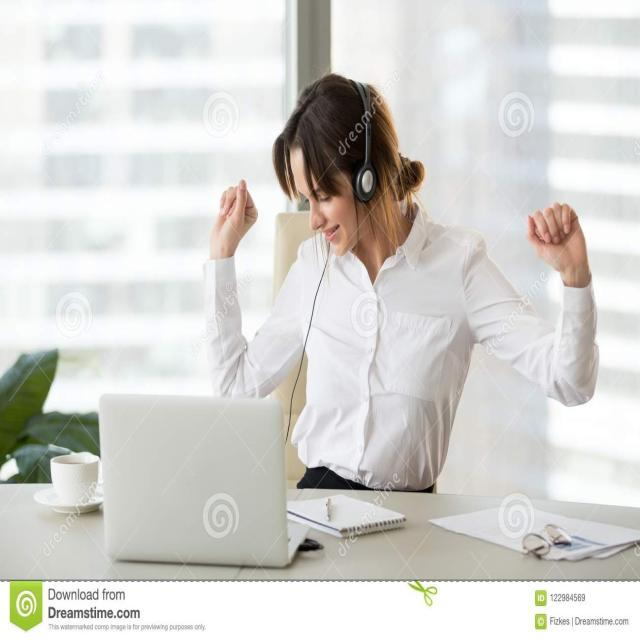sit: (258, 88, 468, 536)
